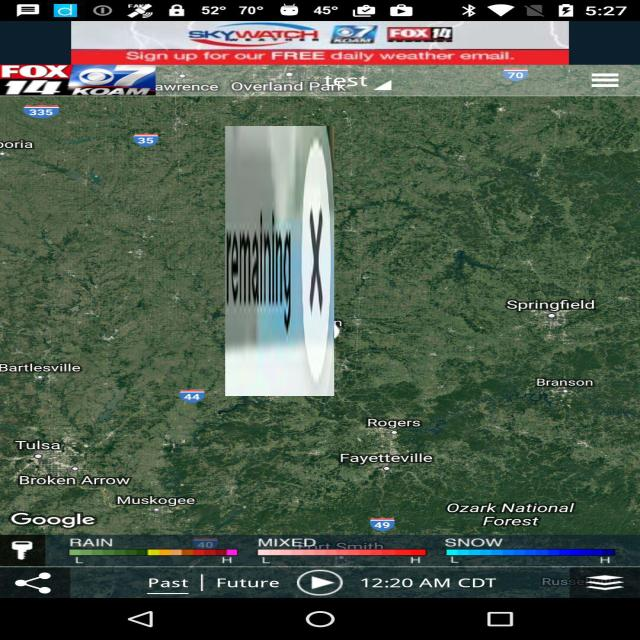misdirection: (225, 126, 334, 396)
